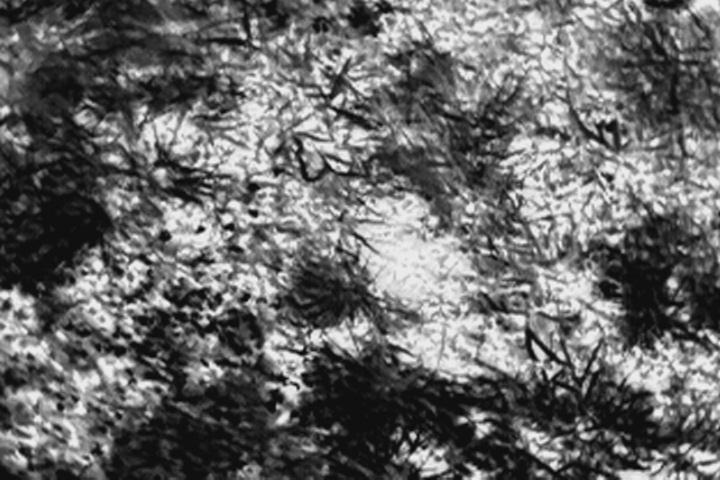landmine: (325, 159, 495, 343)
